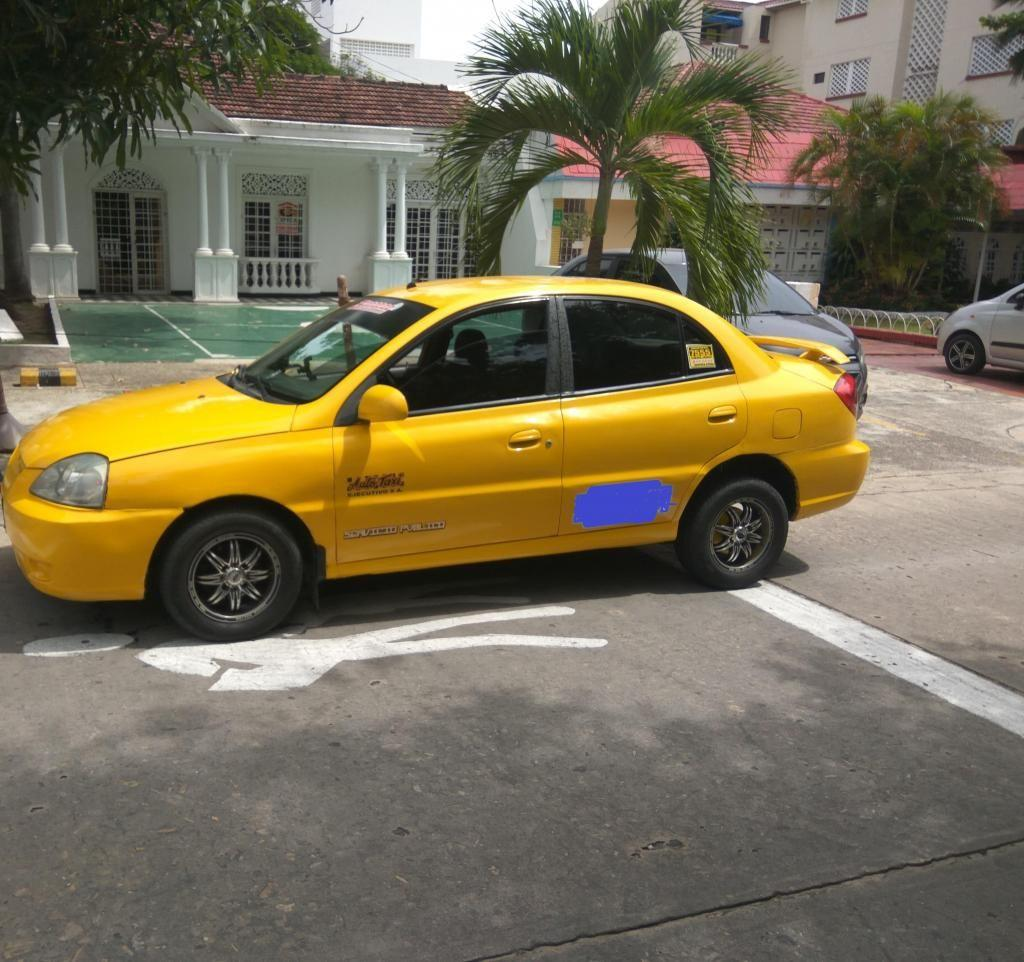taxi: (1, 258, 944, 678)
